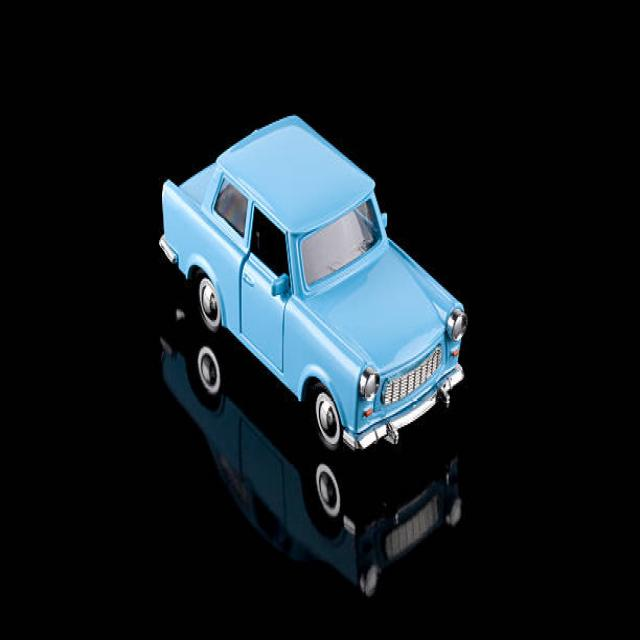Car: (158, 113, 467, 453), (158, 324, 463, 598)
